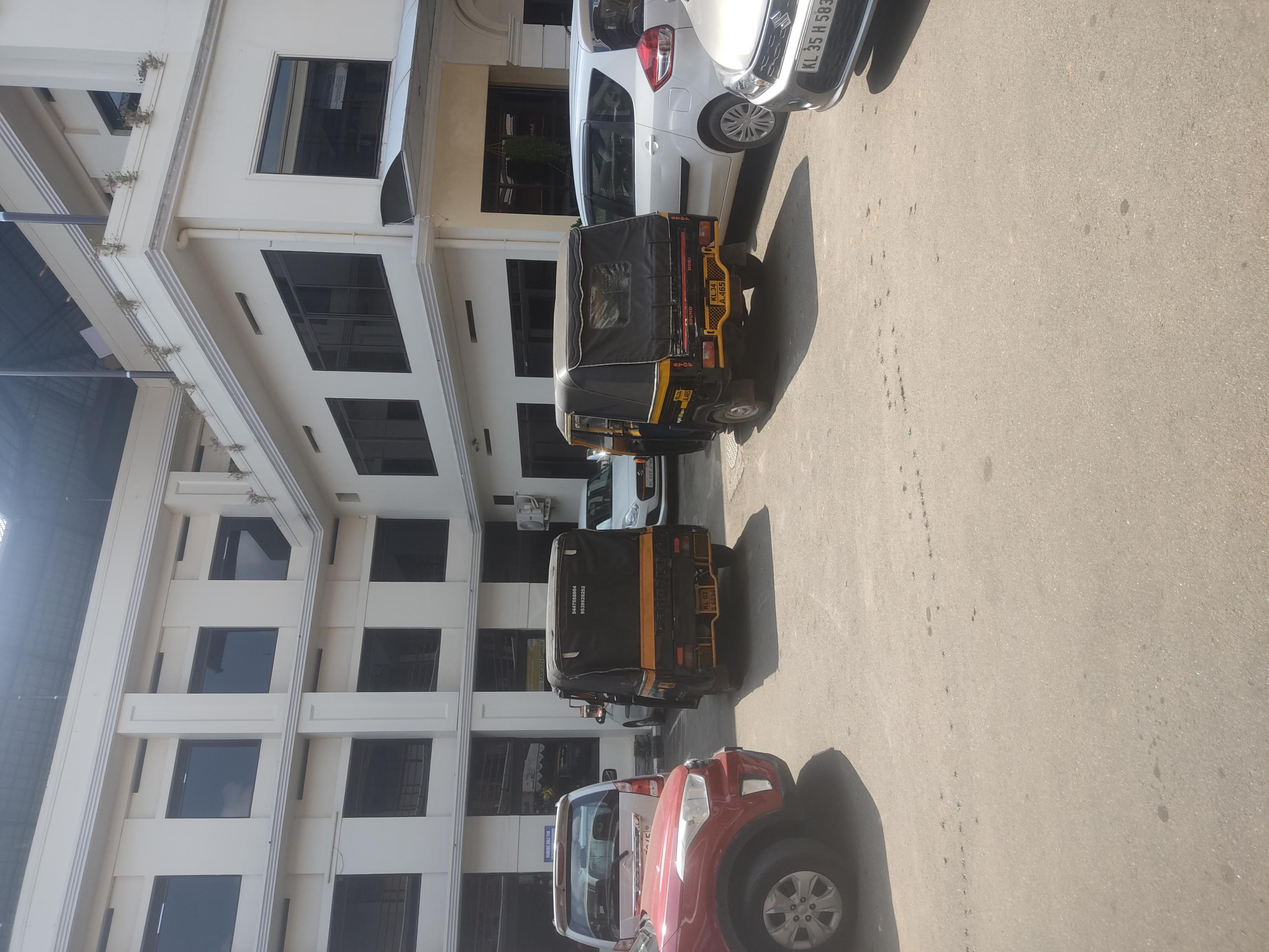Auto: (651, 408, 1019, 591), (301, 386, 607, 591)
